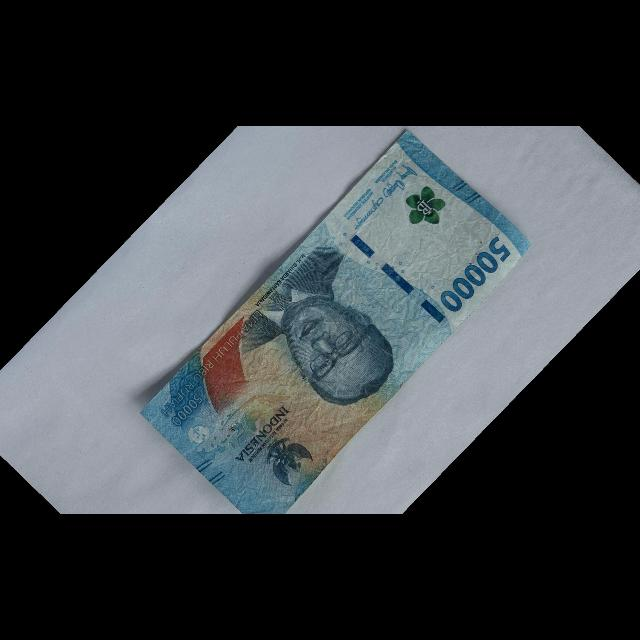Palsu-50k: (132, 120, 538, 539)
Tinta-Palsu-50k: (396, 180, 454, 239)
